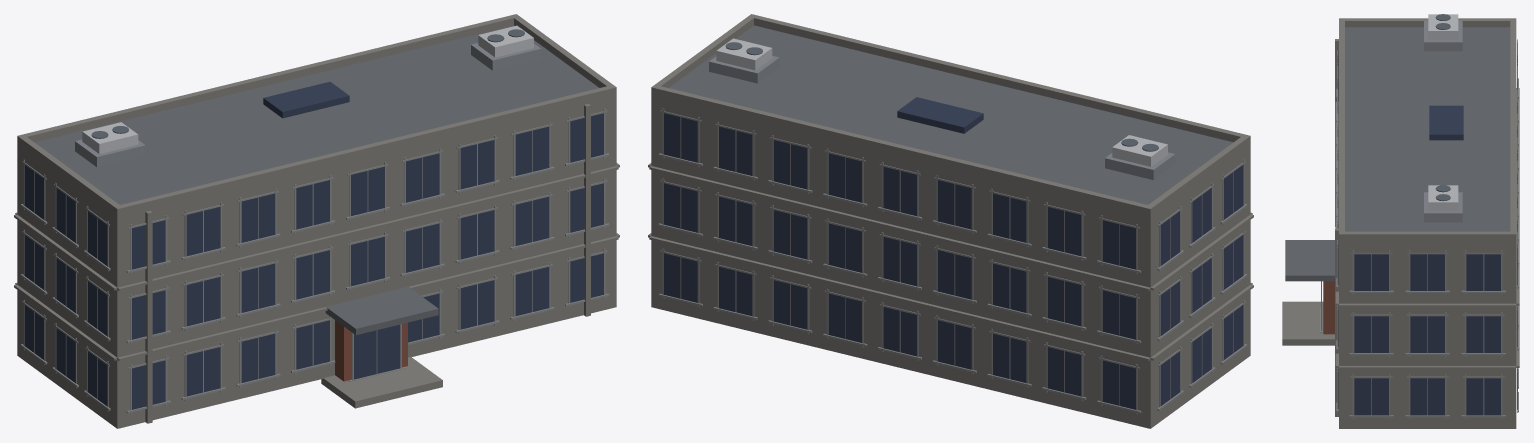
File: civic_long_09_lvl1.glb
The picture shows the model from 3 angles, left to right: view 1: azimuth 30°, elevation 25°; view 2: azimuth 150°, elevation 25°; view 3: azimuth 270°, elevation 25°; orthographic projection. The views are drawn at different scales.
Parts seen in each view (by area): view 1: civic_long_09; view 2: civic_long_09; view 3: civic_long_09.
Part boxes in pixels (x1,y1,x2,y2): civic_long_09: (14,14,619,428); civic_long_09: (648,14,1253,428); civic_long_09: (1282,14,1519,428).
Size of the model in its own units: 1 by 0.4681 by 0.4591.
